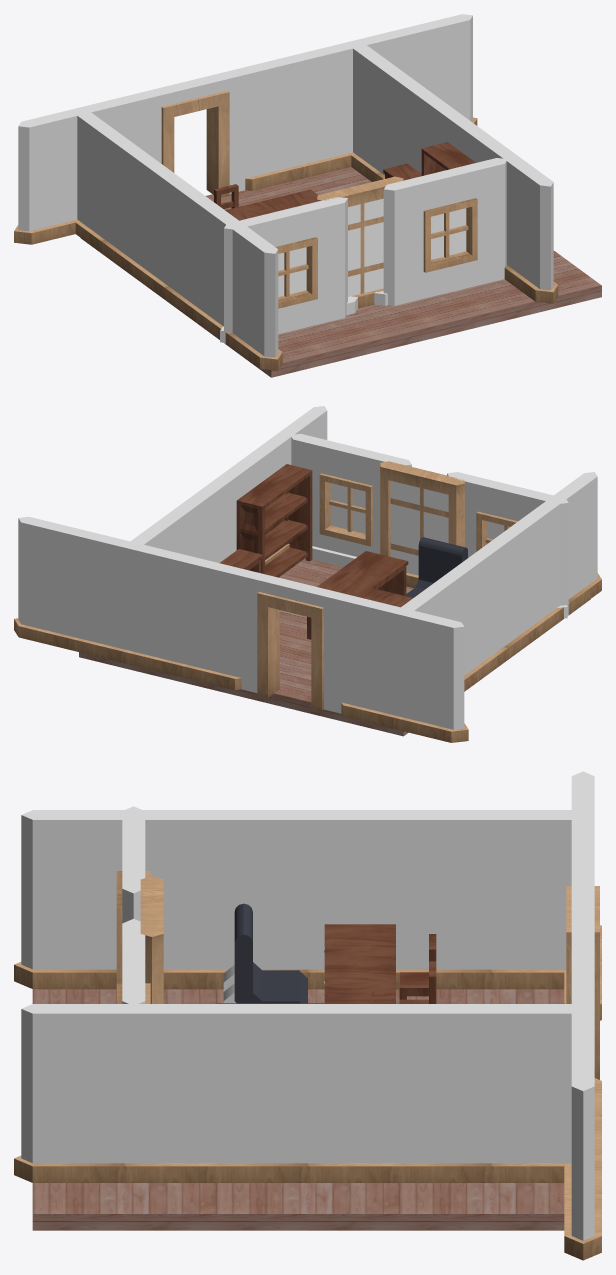
File: Level_0_3-Alt.fbx
The picture shows the model from 3 angles, top to bottom: view 1: azimuth 30°, elevation 25°; view 2: azimuth 150°, elevation 25°; view 3: azimuth 270°, elevation 25°; orthographic projection. The views are drawn at different scales.
Visible parts, largest first — view 1: mergedBlocks; view 2: mergedBlocks; view 3: mergedBlocks.
Boxes of the visible parts, box(x1,y1,x2,y2) form: mergedBlocks: box(14, 14, 601, 377); mergedBlocks: box(14, 406, 601, 742); mergedBlocks: box(14, 771, 601, 1260).
Bounding box in the file's own units: 84.1 × 22 × 64.1.
8 materials, 3 textured.
